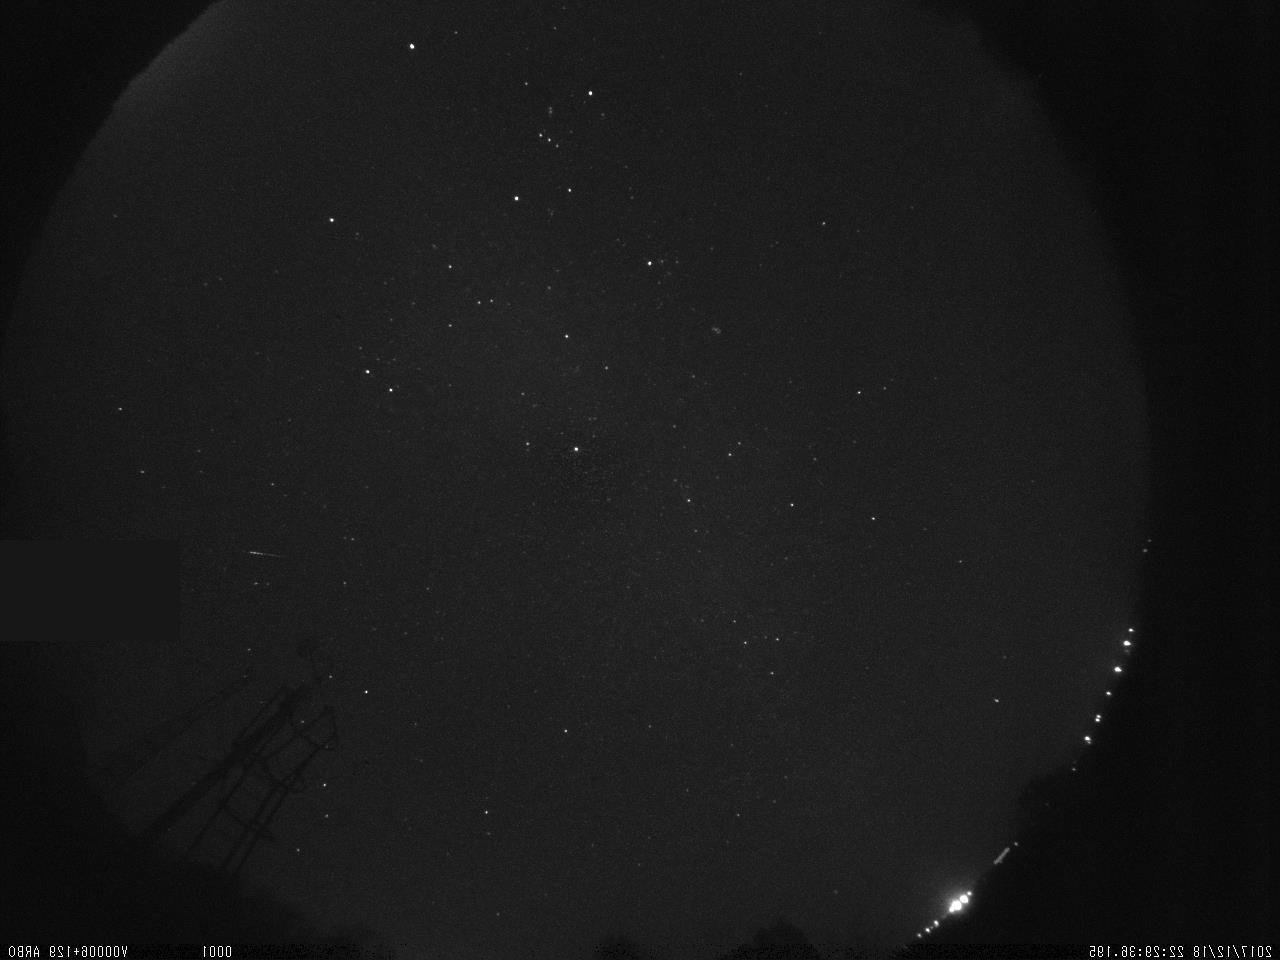meteor: (240, 541, 299, 567)
